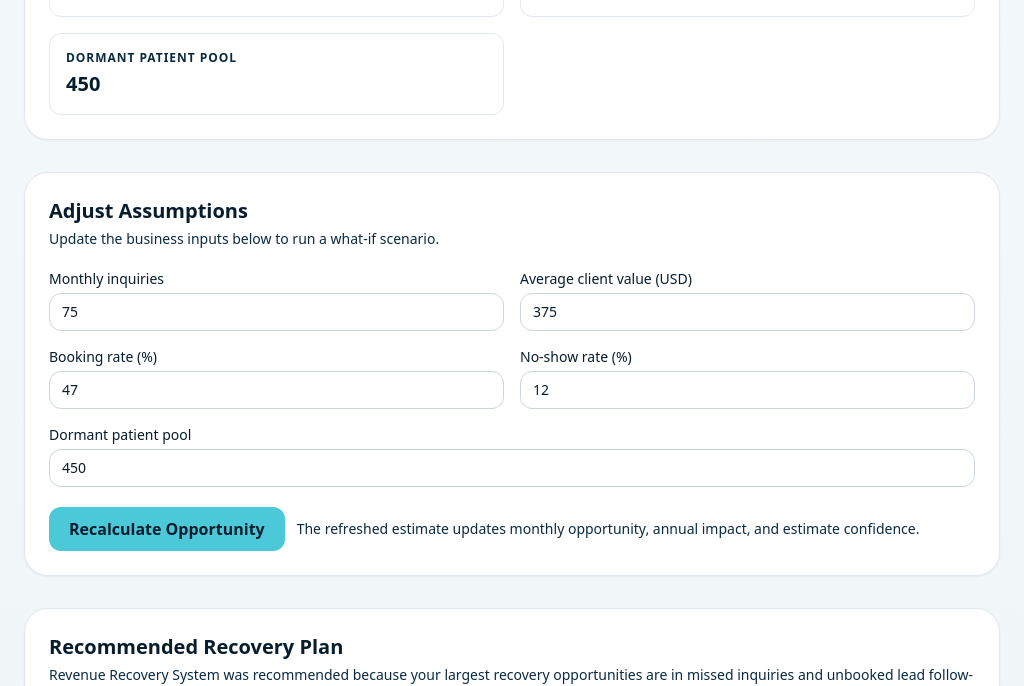
Test: assessment results page › refreshes the displayed opportunities after recalculation
The width and height of the screenshot is (1024, 686).
(page scrolled)
Step 1. Replace the text in the number field labelled "Monthly inquiries" with "90" → (276, 312), box [49,293,504,331]
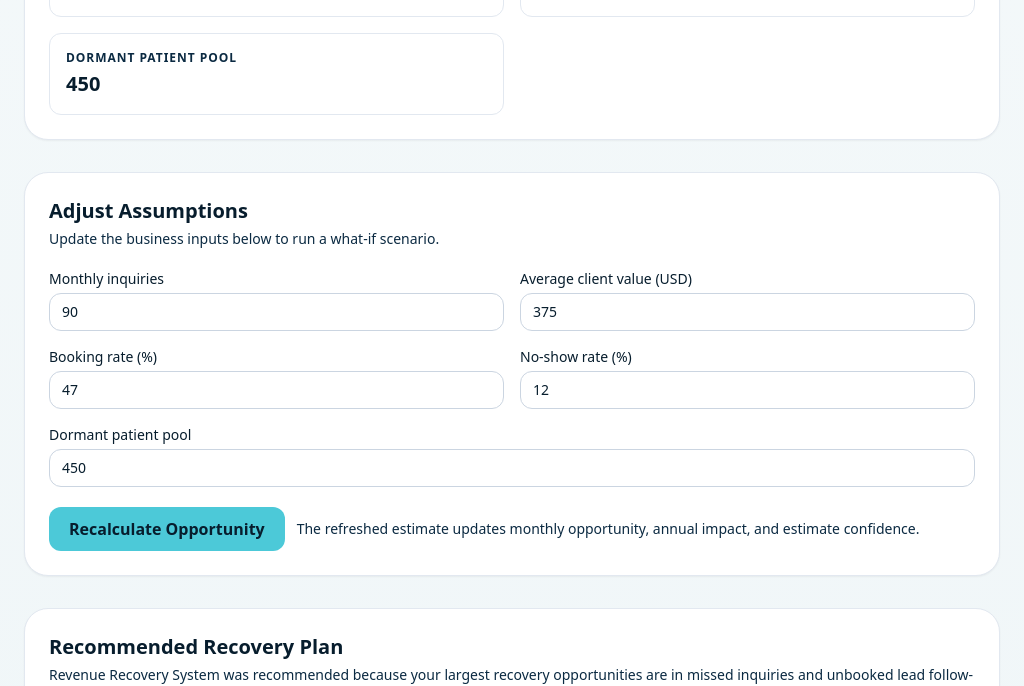
Step 2. Click the button "Recalculate Opportunity" → (167, 529), box [49,507,285,551]
(page scrolled)
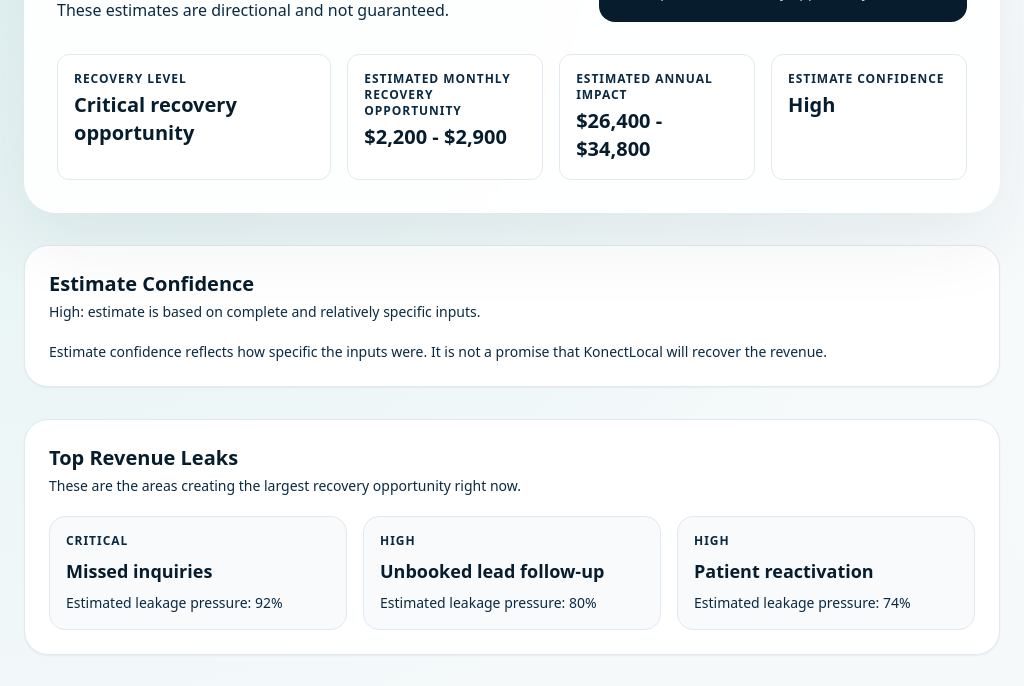
Check: the text "$2,200 - $2,900" is shown, box [364,123,526,151]
Check: the text "$26,400 - $34,800" is shown, box [576,107,662,162]
Check: the text "complete and relatively specific inputs" is shown, box [49,302,480,321]
